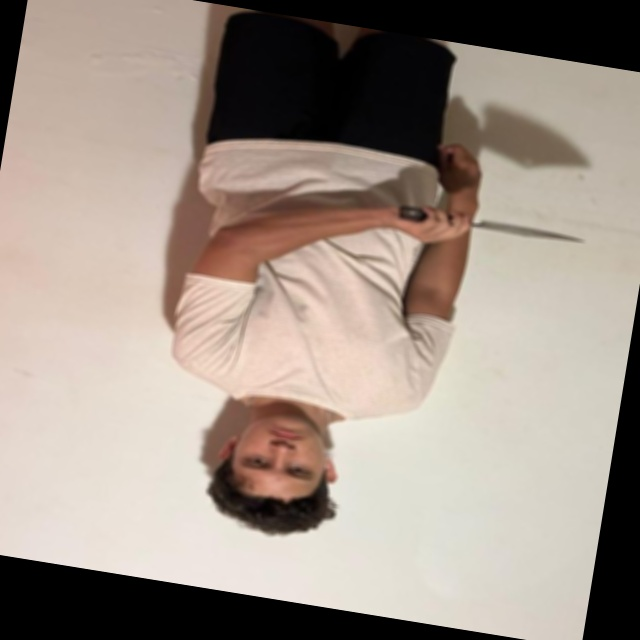Sharp-Object: (483, 220, 587, 248)
